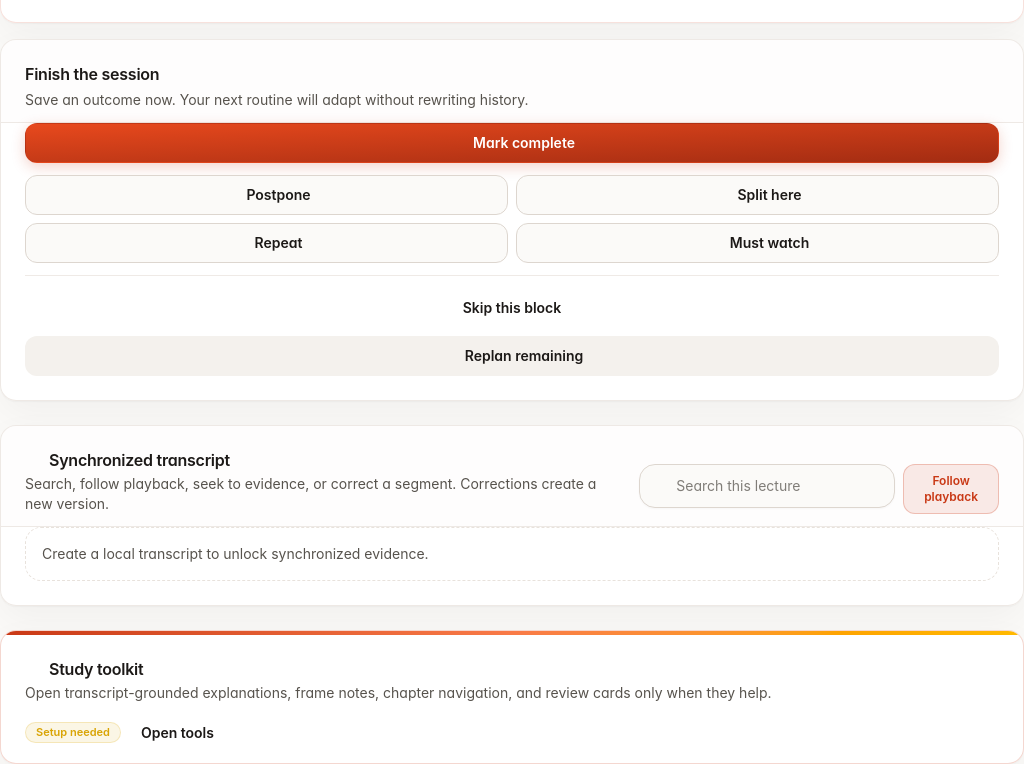
Test: PlayerRoute › clears stale starting status when transcription startup fails
(page scrolled)
Click the button "Open tools" at x=189, y=733, box [129,715,250,751]
(page scrolled)
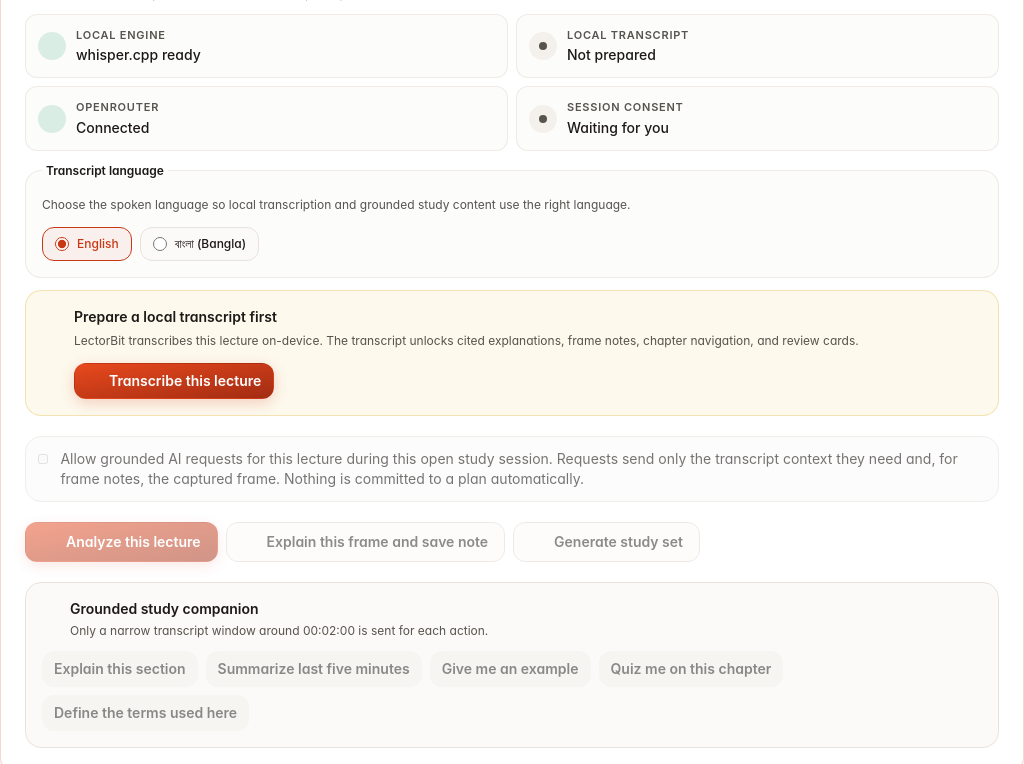
Click the button "Transcribe this lecture" at x=174, y=381, box [74,363,274,399]
(page scrolled)
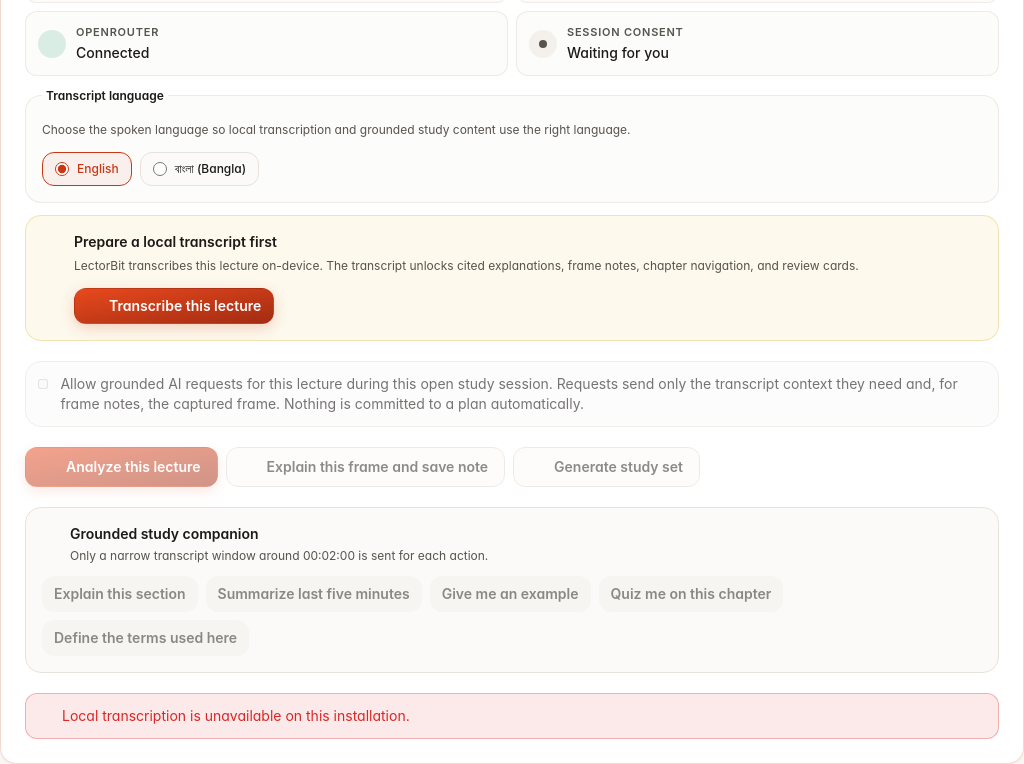
expect the text "Local transcription is unavailable on this installation." is shown: met, box [62,706,410,726]
